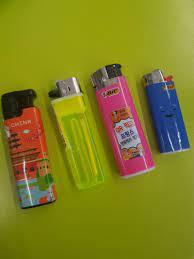lighter: (91, 63, 154, 182), (45, 74, 106, 191), (1, 89, 56, 210), (143, 70, 190, 156)
